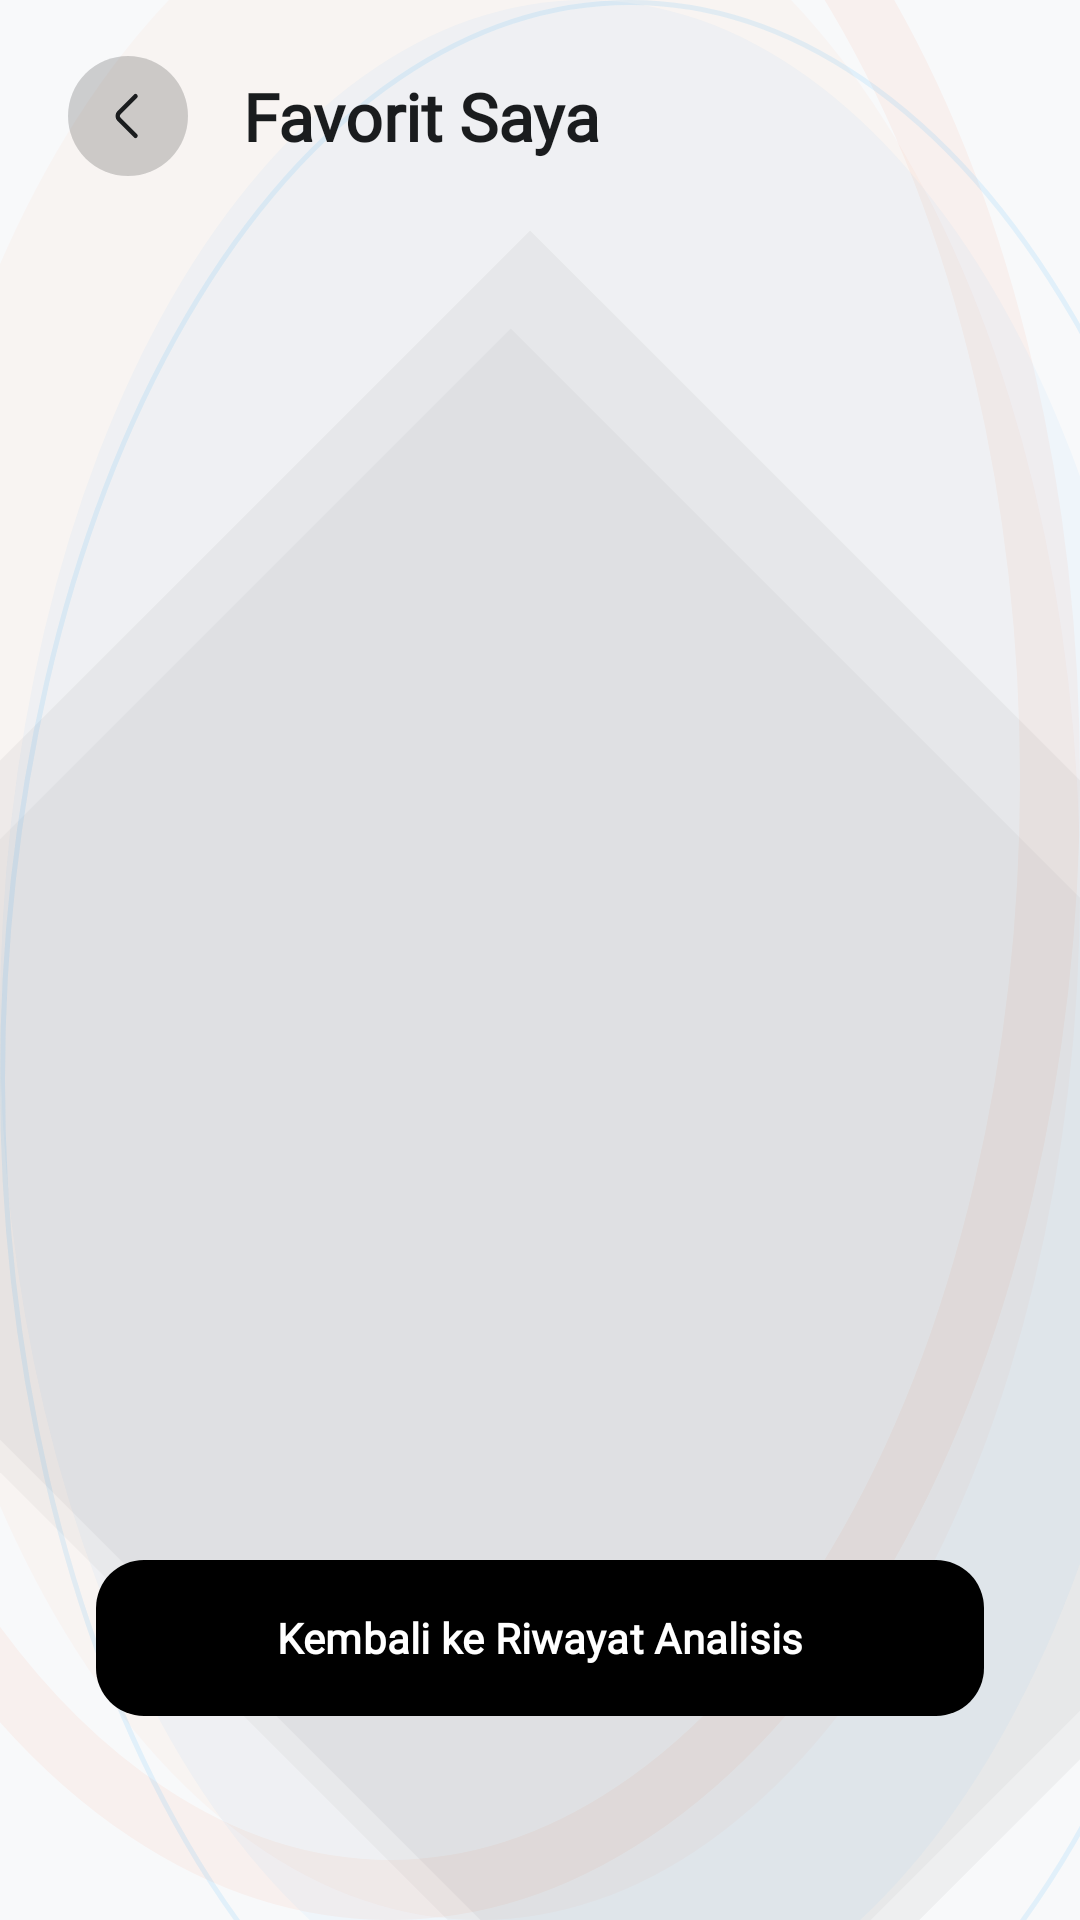

Screen size 1080*1920. Icon name, then its box in pixels as (x1, y1, x2, y2):
Kembali: (68, 56, 188, 176)
